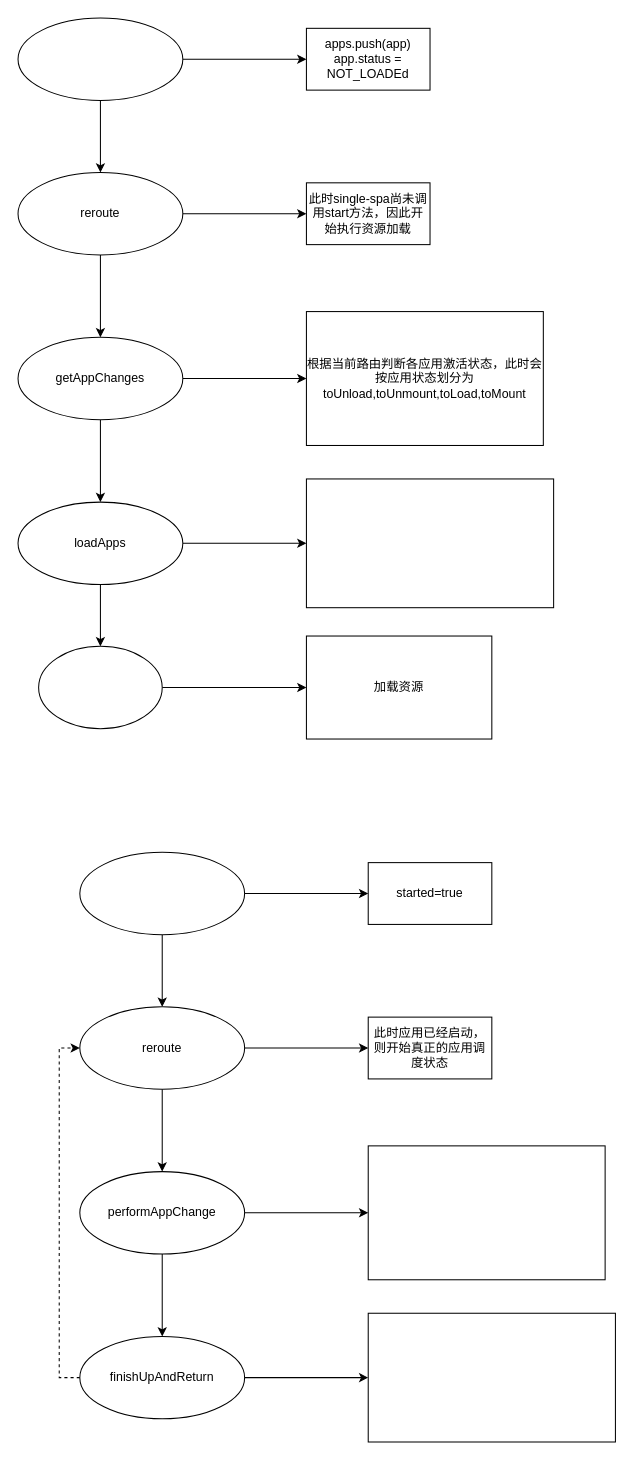
Image size: 633x1461. Some labels were removed from this diagram. The centre of each missing label's shape, as x and y in pixels:
load: the point at 100,687
registerApplication: the point at 100,58
start: the point at 162,893
按照先卸载后挂载的顺序对应用状态进行操作: the point at 486,1212
未调用start方法，则会进行资源的加载: the point at 429,543
结束本次重路由并执行相应回调: the point at 491,1377
